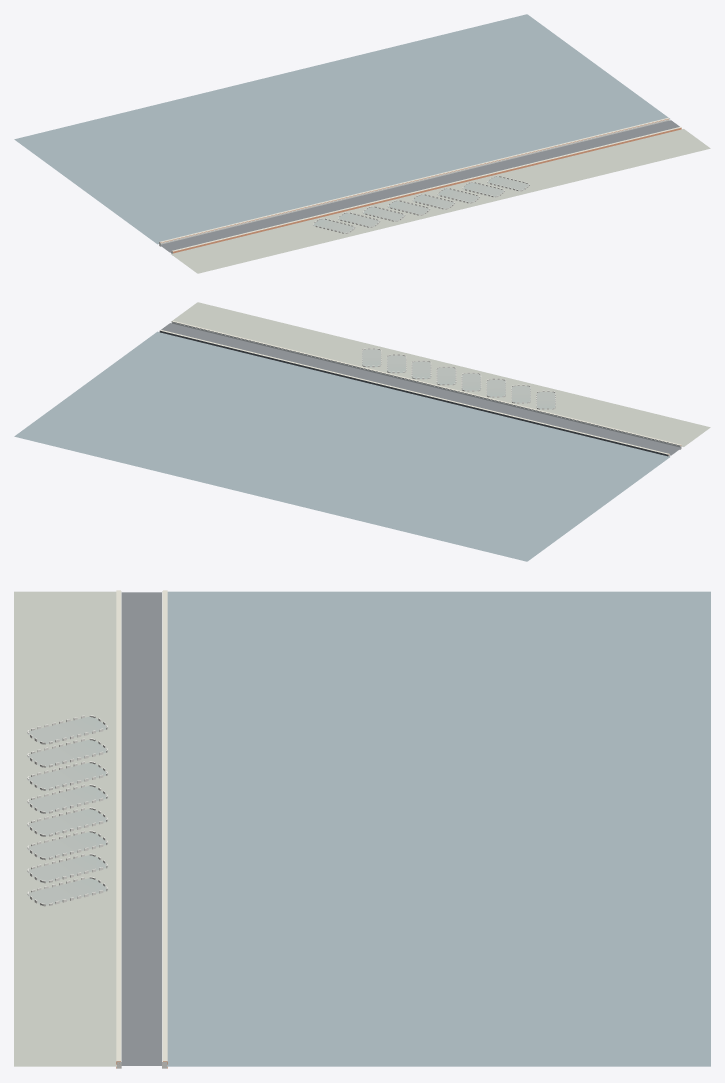
The model's file is Road.fbx.
3 renders of one model, top to bottom at view 1: azimuth 30°, elevation 25°; view 2: azimuth 150°, elevation 25°; view 3: azimuth 270°, elevation 25°, orthographic. The views are drawn at different scales.
Visible parts, largest first — view 1: pasted__Plane.011; view 2: pasted__Plane.011; view 3: pasted__Plane.011, extracted_06, extracted_03, extracted_04, extracted_08, extracted_02, extracted_05, extracted_07, extracted_01.
Part boxes in pixels (x1,y1,x2,y2): pasted__Plane.011: (14, 14, 710, 273); pasted__Plane.011: (14, 302, 710, 561); pasted__Plane.011: (14, 590, 710, 1068); extracted_06: (27, 761, 108, 790); extracted_03: (27, 830, 108, 860); extracted_04: (27, 807, 107, 836); extracted_08: (27, 715, 108, 744); extracted_02: (27, 853, 108, 883); extracted_05: (27, 784, 107, 813); extracted_07: (27, 738, 108, 767); extracted_01: (27, 876, 108, 906).
Size of the model in its own units: 7232 by 52.65 by 4483.
